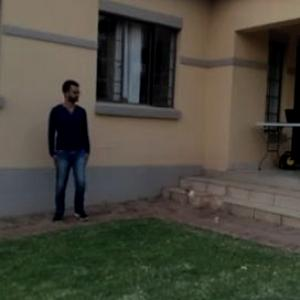follow: (62, 86, 104, 225)
